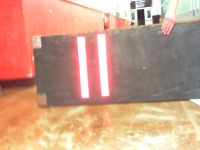switch: (76, 36, 90, 97), (97, 33, 110, 96)
